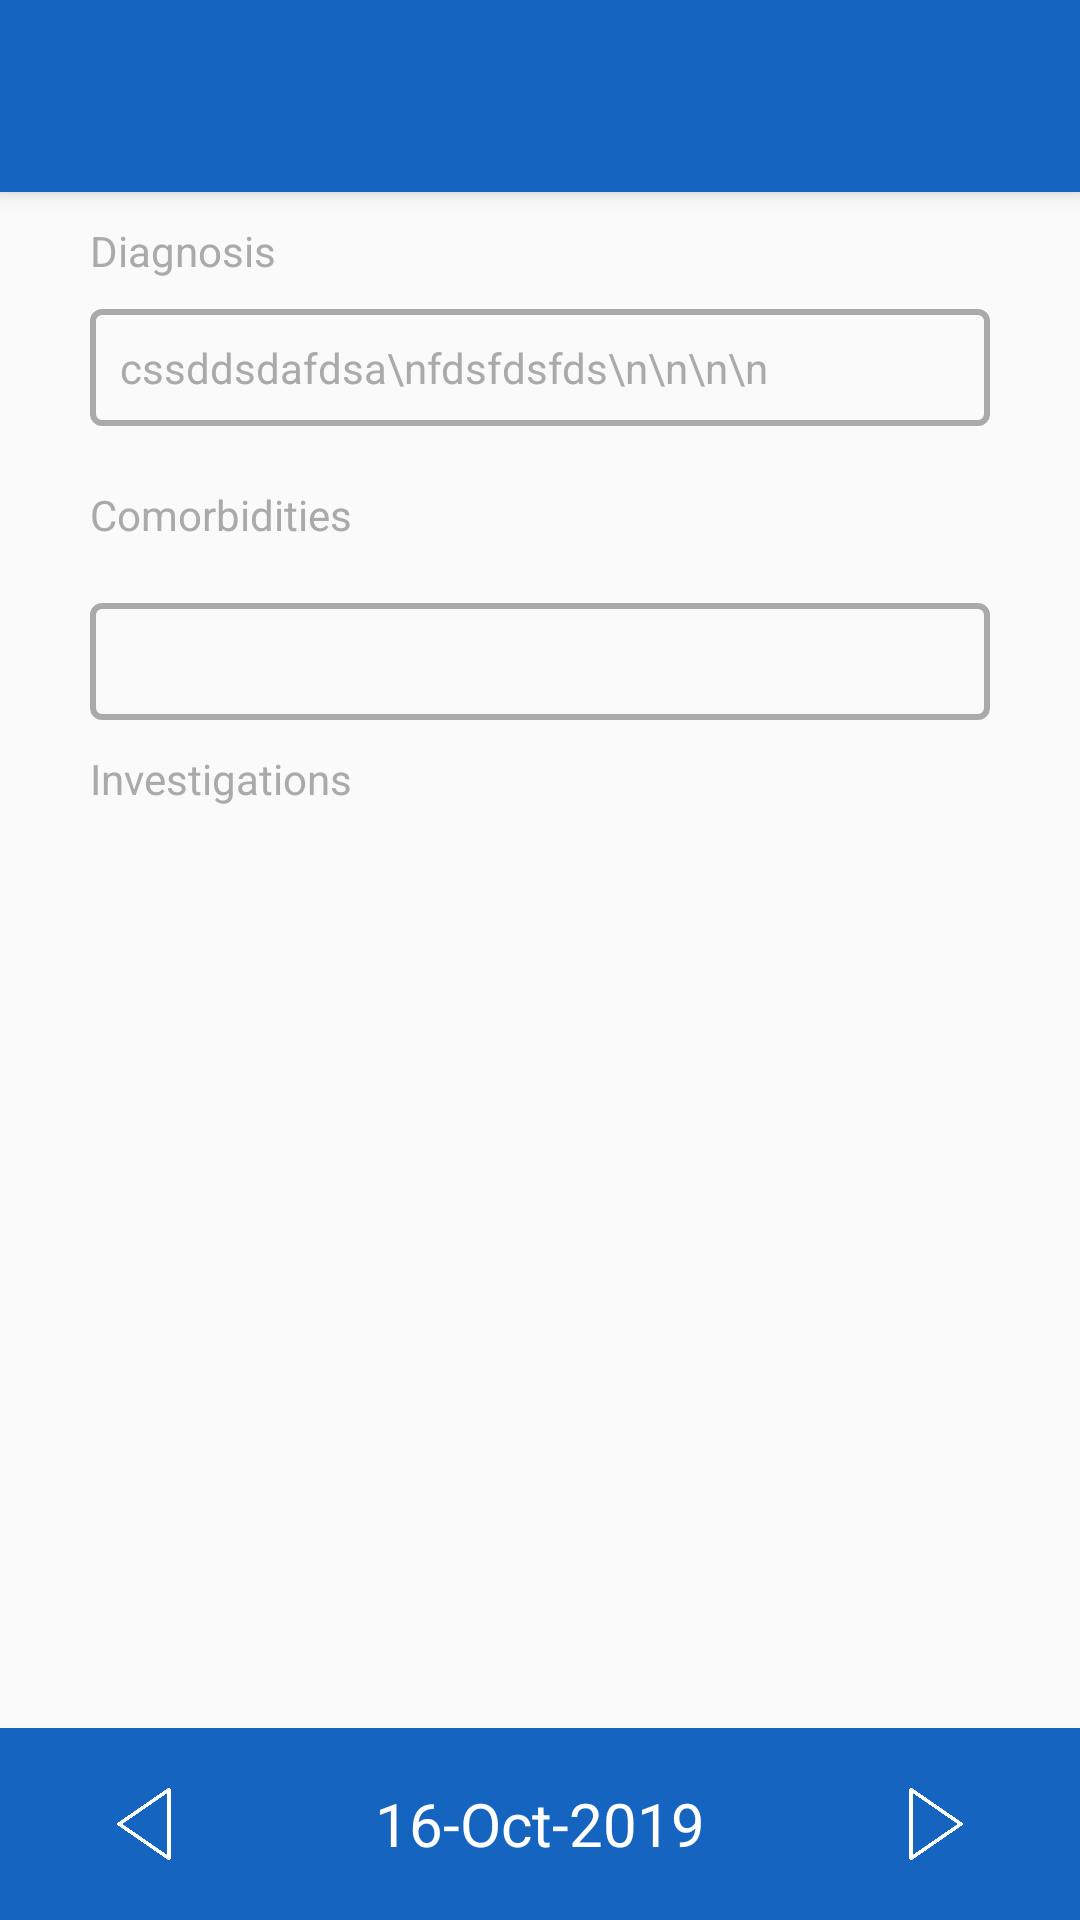

Where to tap for icons on this 1080w x 1920h app screen, as point (x, y):
left: point (144, 1824)
right: point (936, 1824)
